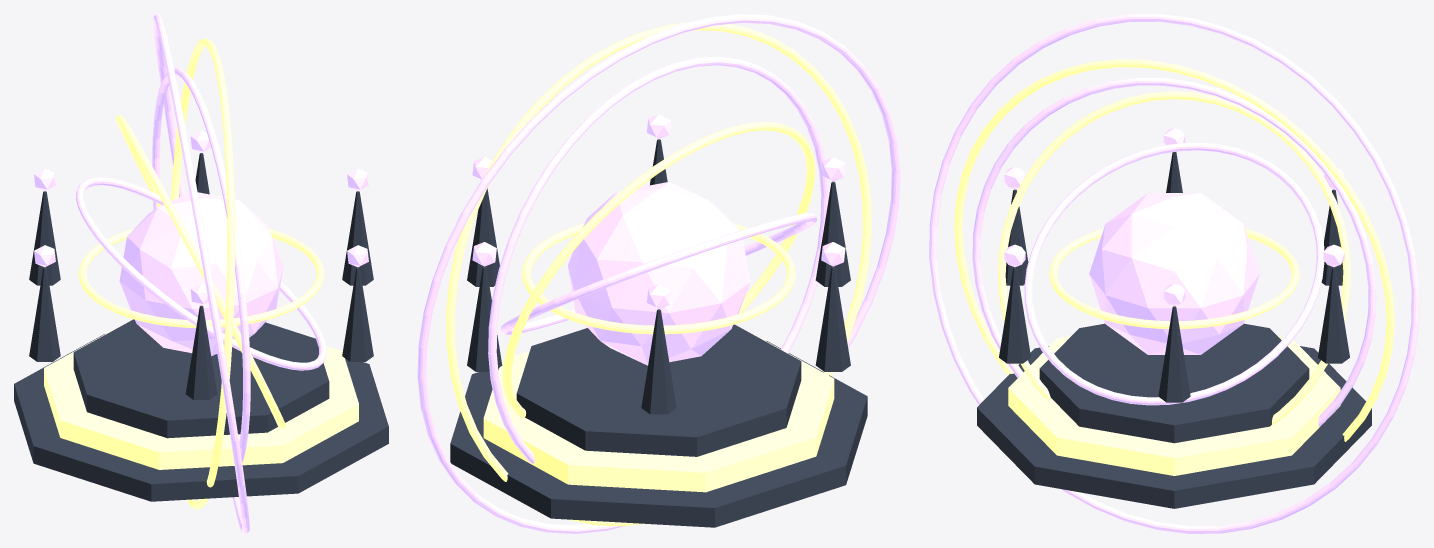
Rendered from gpu-blender-v18.glb.
3 views of the same model, side by side, from view 1: azimuth 30°, elevation 25°; view 2: azimuth 150°, elevation 25°; view 3: azimuth 270°, elevation 25° (orthographic). The views are drawn at different scales.
Visible parts, largest first — view 1: Cylinder.002, Cylinder, SovereignCore_zothos-lite, Cylinder.001, Torus.005, Torus.004, Torus.003, Torus.001, Torus, Torus.002, Cone.003, Cone.005 (+3 smaller); view 2: Cylinder.002, SovereignCore_zothos-lite, Cylinder, Cylinder.001, Torus.005, Torus.004, Torus.003, Torus.002, Torus.001, Torus, Cone.002, Cone.003 (+3 smaller); view 3: SovereignCore_zothos-lite, Cylinder.002, Cylinder, Cylinder.001, Torus.005, Torus.004, Torus.001, Torus.003, Torus.002, Torus, Cone, Cone.001 (+3 smaller).
Boxes of the visible parts, x1,y1,x2,y2 form: Cylinder.002: (73,319,329,438); Cylinder: (14,334,388,501); SovereignCore_zothos-lite: (119,192,283,356); Cylinder.001: (44,326,358,469); Torus.005: (153,14,249,533); Torus.004: (171,38,235,509); Torus.003: (152,68,250,461); Torus.001: (76,177,326,370); Torus: (78,228,324,327); Torus.002: (116,115,285,428); Cone.003: (29,267,60,361); Cone.005: (342,267,373,361); Cylinder.002: (516,324,801,456); SovereignCore_zothos-lite: (568,182,749,365); Cylinder: (450,341,867,527); Cylinder.001: (483,332,834,492); Torus.005: (417,14,900,533); Torus.004: (446,22,871,526); Torus.003: (488,56,829,463); Torus.002: (502,121,815,418); Torus.001: (500,213,817,334); Torus: (522,223,795,334); Cone.002: (641,309,676,414); Cone.003: (815,267,850,371); SovereignCore_zothos-lite: (1089,193,1259,354); Cylinder.002: (1039,323,1309,443); Cylinder: (977,346,1371,508); Cylinder.001: (1008,336,1340,475); Torus.005: (929,14,1419,533); Torus.004: (954,59,1394,441); Torus.001: (1024,142,1324,405); Torus.003: (972,77,1376,426); Torus.002: (998,91,1350,425); Torus: (1049,228,1299,328); Cone: (1158,306,1190,402); Cone.001: (1318,267,1349,363).
Size of the model in its own units: 4.41 by 5.93 by 5.46.
